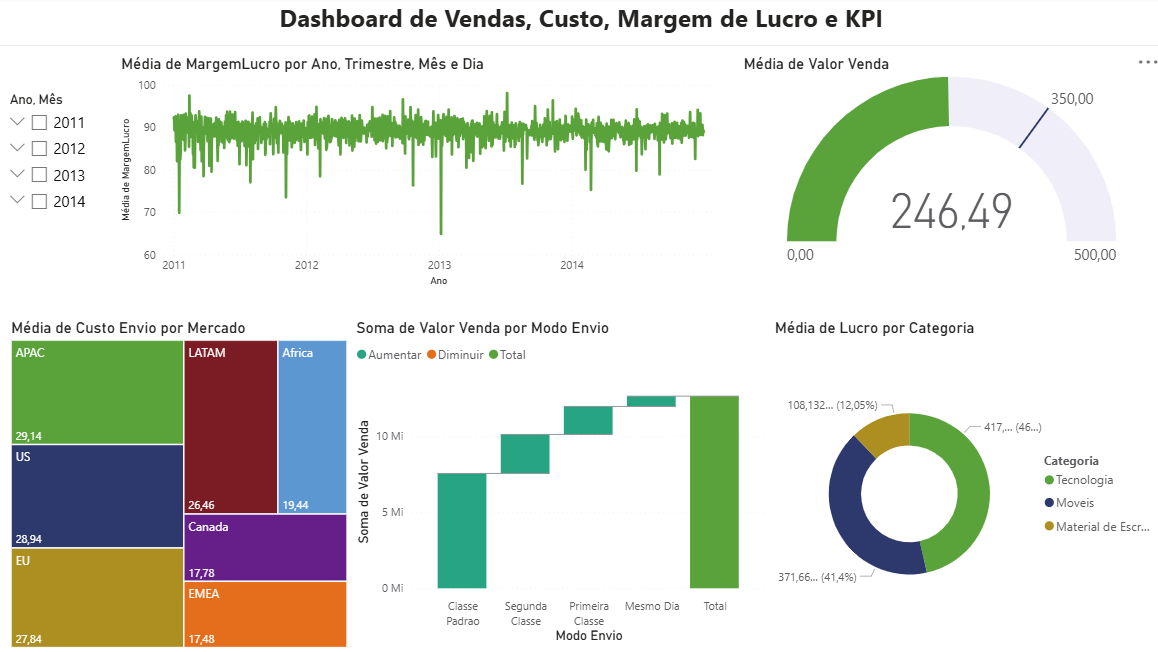

This screenshot's page, from the dashboard's own definition file:
{"tool":"powerbi","page":{"name":"Página 1","canvas":[1280,720],"ordinal":0},"visuals":[{"type":"waterfallChart","fields":{"Category":["Pedidos.Modo Envio"],"Y":["Sum(Vendas.Valor Venda)"]},"box":[388.3,354,459.7,360.9],"z":0},{"type":"treemap","fields":{"Group":["Clientes.Mercado"],"Values":["Avg(Vendas.Custo Envio)"]},"box":[9.6,354,378.7,366.4],"z":1000},{"type":"gauge","fields":{"Y":["Avg(Vendas.Valor Venda)"]},"box":[813.7,64.5,466.6,241.5],"z":2000},{"type":"slicer","fields":{"Values":["Pedidos.Data Pedido.Variation.Hierarquia de datas.Ano","Pedidos.Data Pedido.Variation.Hierarquia de datas.Mês"]},"box":[0,100.2,130.4,148.2],"z":3000},{"type":"donutChart","fields":{"Category":["Produtos.Categoria"],"Y":["Avg(Vendas.Lucro)"]},"box":[848,354,432.2,366.4],"z":4000},{"type":"lineChart","fields":{"Category":["Pedidos.Data Pedido.Variation.Hierarquia de datas.Ano","Pedidos.Data Pedido.Variation.Hierarquia de datas.Trimestre","Pedidos.Data Pedido.Variation.Hierarquia de datas.Mês","Pedidos.Data Pedido.Variation.Hierarquia de datas.Dia"],"Y":["Avg(Vendas.MargemLucro)"]},"box":[130.4,64.5,662.8,259.3],"z":5000},{"type":"textbox","box":[0,0,1280.3,54.9],"z":6000}]}

Visuals, with their boxes in screenshot pixels (x1, y1, x2, y2), scaled from the page's 1280x720 canvas onto the 1158x652 screenshot:
waterfallChart - Pedidos.Modo Envio x Sum(Vendas.Valor Venda): {"x1": 351, "y1": 321, "x2": 767, "y2": 647}
treemap - Clientes.Mercado x Avg(Vendas.Custo Envio): {"x1": 9, "y1": 321, "x2": 351, "y2": 651}
gauge - Avg(Vendas.Valor Venda): {"x1": 736, "y1": 58, "x2": 1157, "y2": 277}
slicer - Pedidos.Data Pedido.Variation.Hierarquia de datas.Ano x Pedidos.Data Pedido.Variation.Hierarquia de datas.Mês: {"x1": 0, "y1": 91, "x2": 118, "y2": 225}
donutChart - Produtos.Categoria x Avg(Vendas.Lucro): {"x1": 767, "y1": 321, "x2": 1157, "y2": 651}
lineChart - Pedidos.Data Pedido.Variation.Hierarquia de datas.Ano x Pedidos.Data Pedido.Variation.Hierarquia de datas.Trimestre: {"x1": 118, "y1": 58, "x2": 718, "y2": 293}
textbox: {"x1": 0, "y1": 0, "x2": 1157, "y2": 50}
